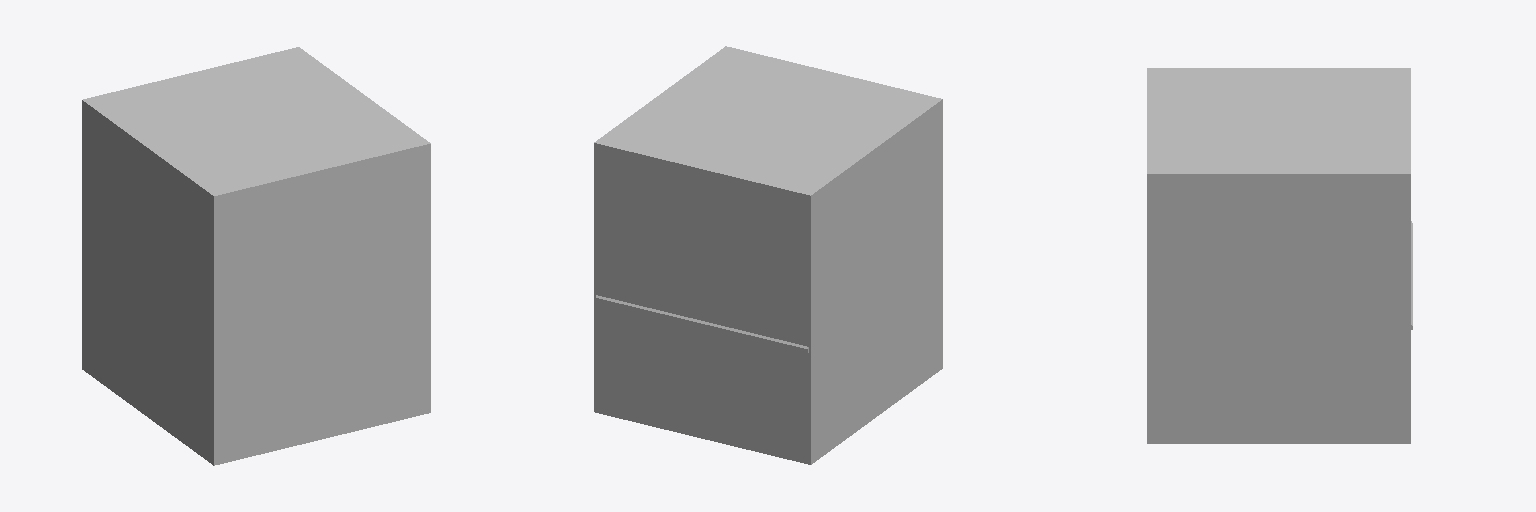
The model's file is vocel_check.obj.
3 renders of one model, left to right at view 1: azimuth 30°, elevation 25°; view 2: azimuth 150°, elevation 25°; view 3: azimuth 270°, elevation 25°, orthographic.
Visible parts, largest first — view 1: pCube1; view 2: pCube1, solve:Mesh; view 3: pCube1.
Boxes of the visible parts, <box> form: pCube1: <box>82,47,430,465</box>; pCube1: <box>594,46,942,464</box>; solve:Mesh: <box>596,295,808,352</box>; pCube1: <box>1147,68,1410,443</box>.
Size of the model in its own units: 6.14 by 7.28 by 6.51.